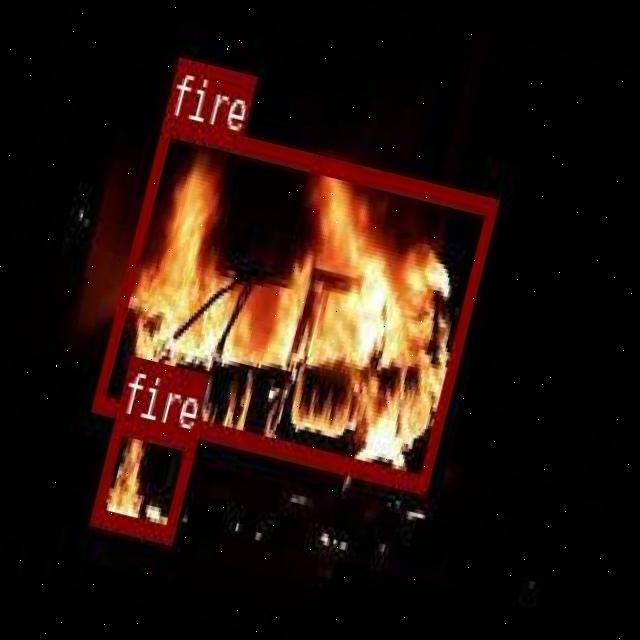fire: (90, 113, 498, 489), (88, 412, 196, 539)
